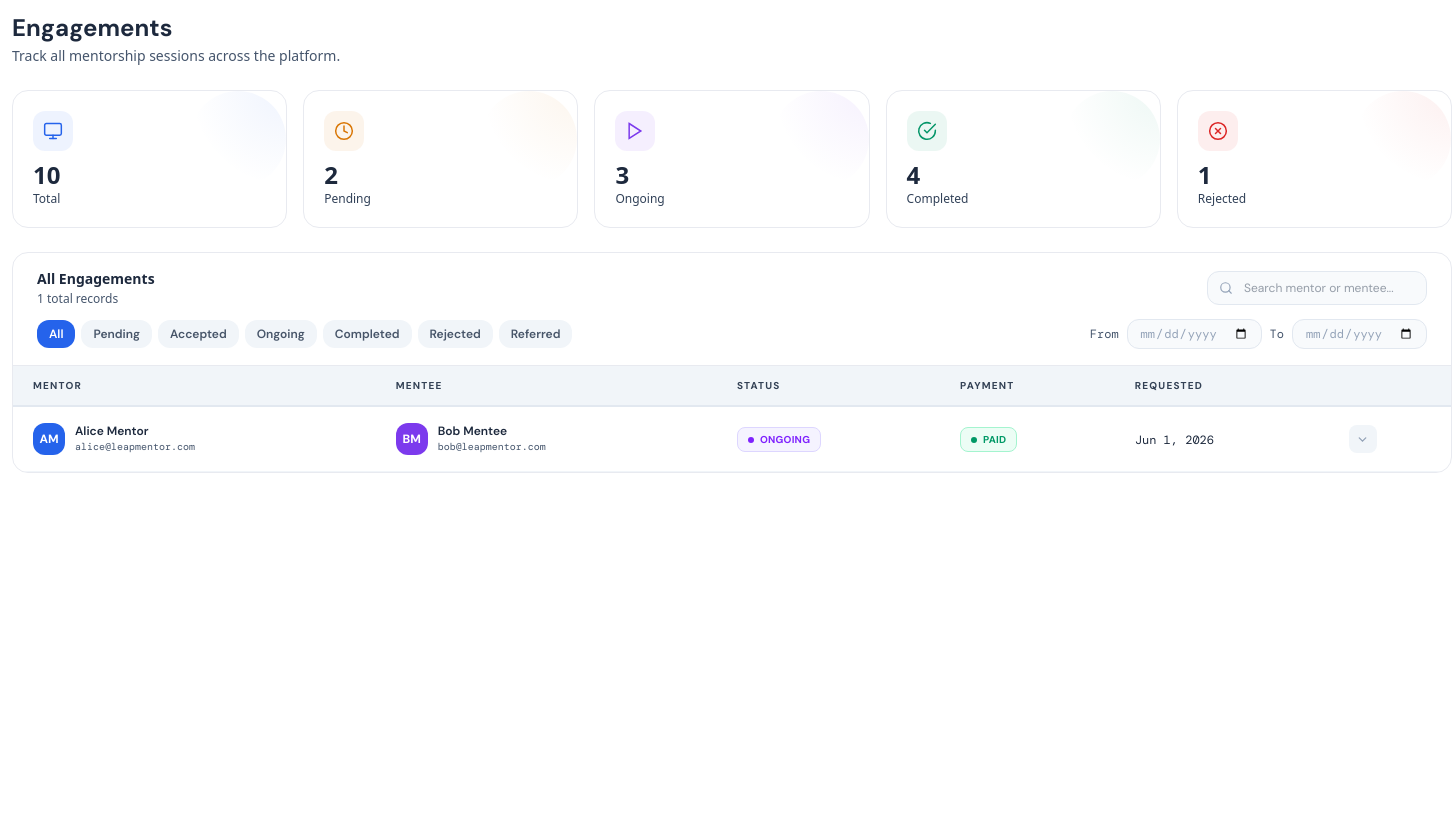
Test: AdminEngagements › expands a row on click to reveal slot and session details, and collapses on second click
This screenshot has width=1452, height=822.
Click the text "Alice Mentor": [112, 430] box [75,422,148,438]
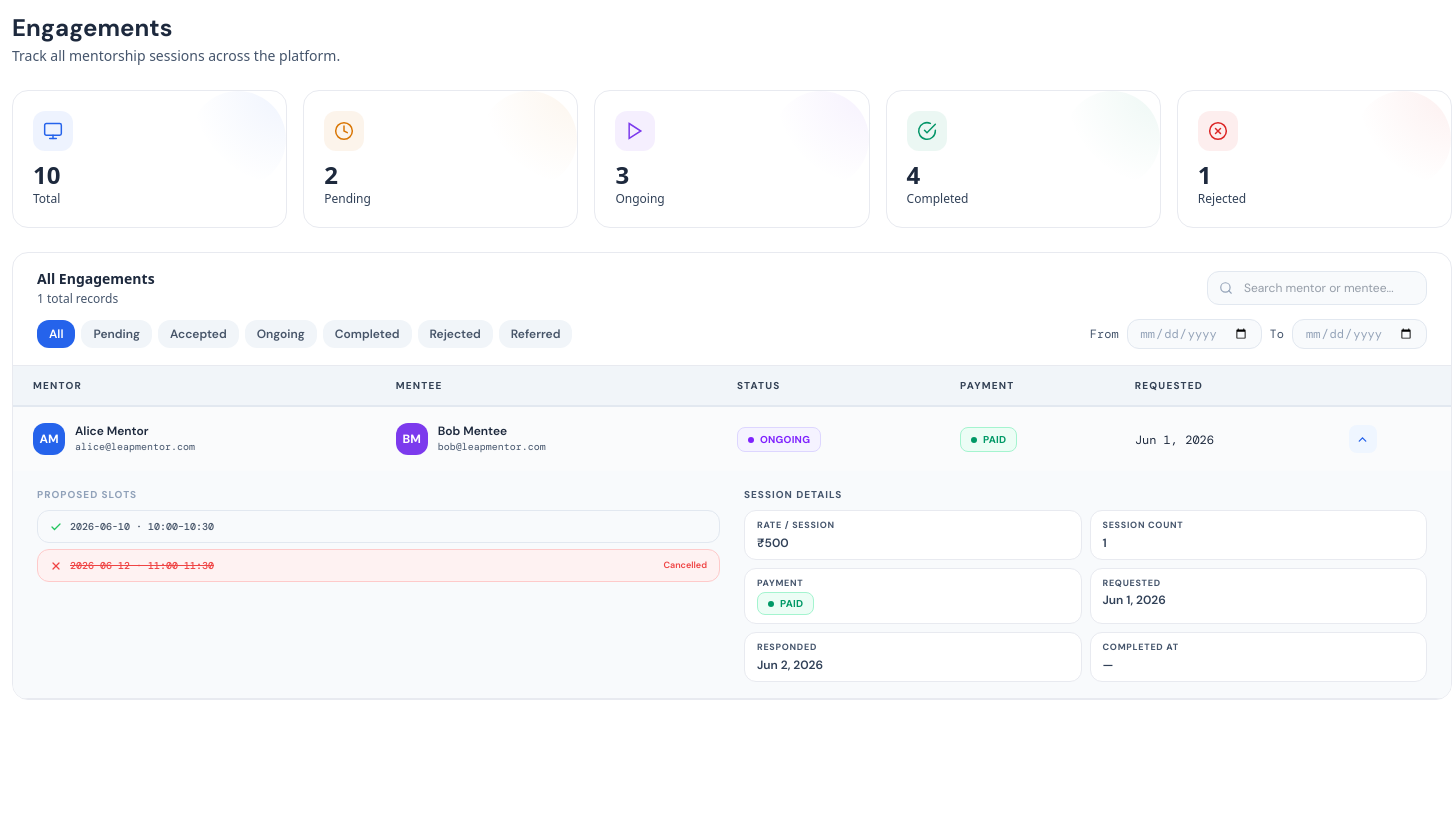
Result: the text "Proposed Slots" is shown at [37,488,137,501]
Result: the text "Session Details" is shown at [744,488,842,501]
Result: the text "₹500" is shown at [757,534,789,550]
Click the text "Alice Mentor": [112, 430] box [75,422,148,438]
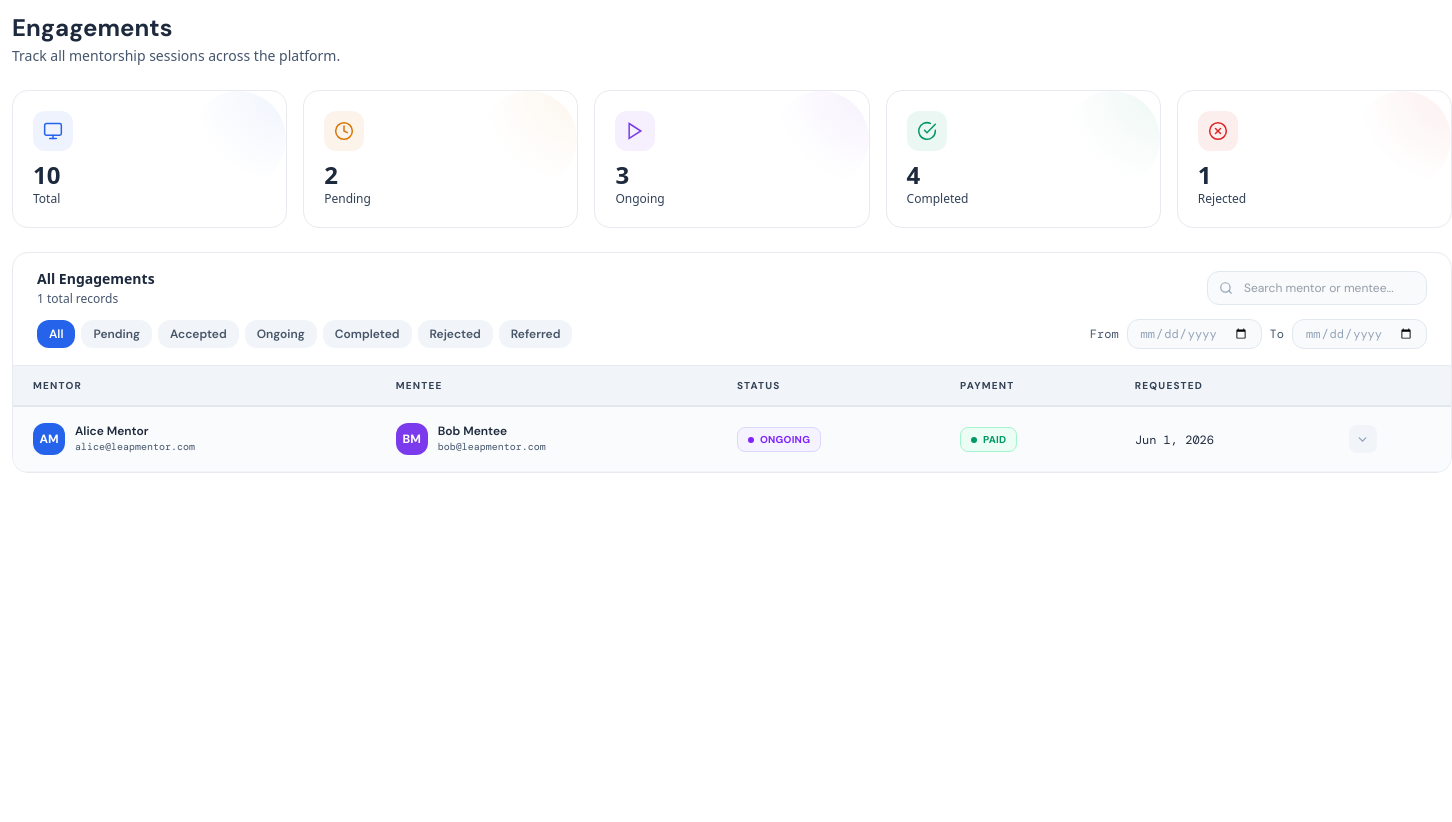
Result: the text "Proposed Slots" is gone
